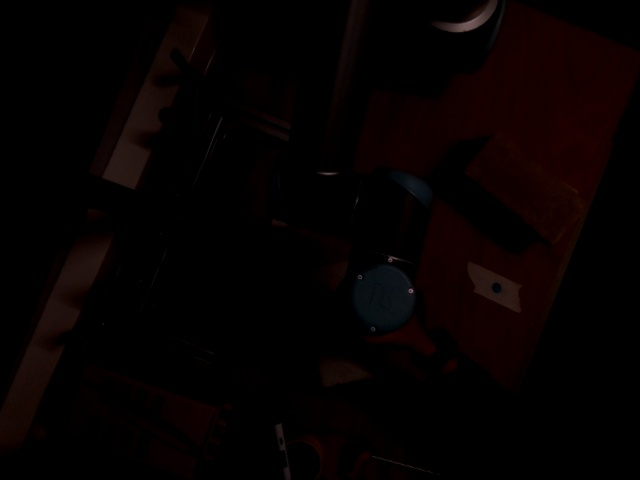brick: (466, 129, 587, 244)
